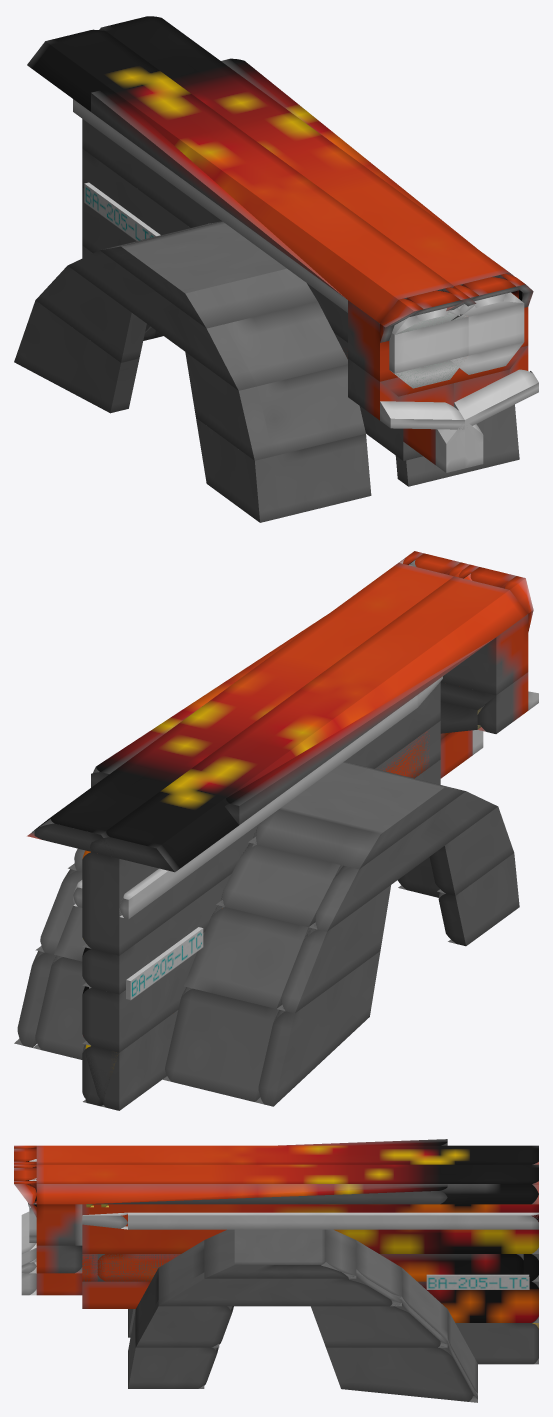
File: unu750_fender_uvfix.obj
3 renders of one model, top to bottom at view 1: azimuth 30°, elevation 25°; view 2: azimuth 150°, elevation 25°; view 3: azimuth 270°, elevation 25°, orthographic. The views are drawn at different scales.
Parts seen in each view (by area): view 1: $FenderLiner_LeftFront, $Fender_LeftFront, $Fender_RightFront, &HeadlightLeft, $Trim_DeLuxe_Fender_RightFront, &HeadlightRight, $FenderLiner_RightFront, $Badge_Fender_RightFront; view 2: $Fender_LeftFront, $FenderLiner_LeftFront, $Fender_RightFront, $FenderLiner_RightFront, $Trim_DeLuxe_Fender_RightFront, $Badge_Fender_RightFront; view 3: $FenderLiner_RightFront, $Fender_LeftFront, $Fender_RightFront, $Trim_DeLuxe_Fender_LeftFront, $Badge_Fender_LeftFront.
Boxes of the visible parts, <box> form: $FenderLiner_LeftFront: <box>14,221,371,522</box>; $Fender_LeftFront: <box>27,29,483,468</box>; $Fender_RightFront: <box>99,16,538,472</box>; &HeadlightLeft: <box>394,312,468,388</box>; $Trim_DeLuxe_Fender_RightFront: <box>73,99,347,312</box>; &HeadlightRight: <box>450,301,524,374</box>; $FenderLiner_RightFront: <box>395,404,519,486</box>; $Badge_Fender_RightFront: <box>84,182,160,240</box>; $Fender_LeftFront: <box>82,564,538,1110</box>; $FenderLiner_LeftFront: <box>163,762,519,1106</box>; $Fender_RightFront: <box>27,551,483,1106</box>; $FenderLiner_RightFront: <box>14,848,85,1059</box>; $Trim_DeLuxe_Fender_RightFront: <box>119,676,442,919</box>; $Badge_Fender_RightFront: <box>126,927,203,1000</box>; $FenderLiner_RightFront: <box>128,1229,477,1402</box>; $Fender_LeftFront: <box>14,1139,538,1328</box>; $Fender_RightFront: <box>14,1164,538,1364</box>; $Trim_DeLuxe_Fender_LeftFront: <box>82,1204,538,1229</box>; $Badge_Fender_LeftFront: <box>426,1274,529,1289</box>.
Size of the model in its own units: 0.875 by 0.875 by 2.16.
